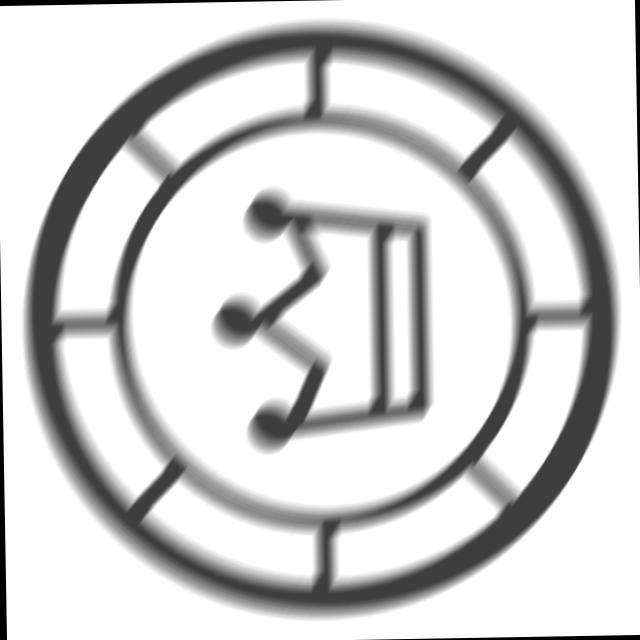coin: (6, 9, 634, 632)
